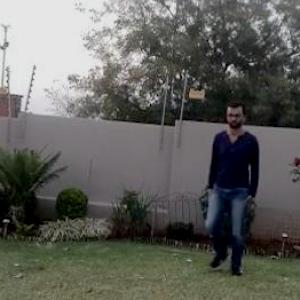follow: (204, 103, 261, 270)
